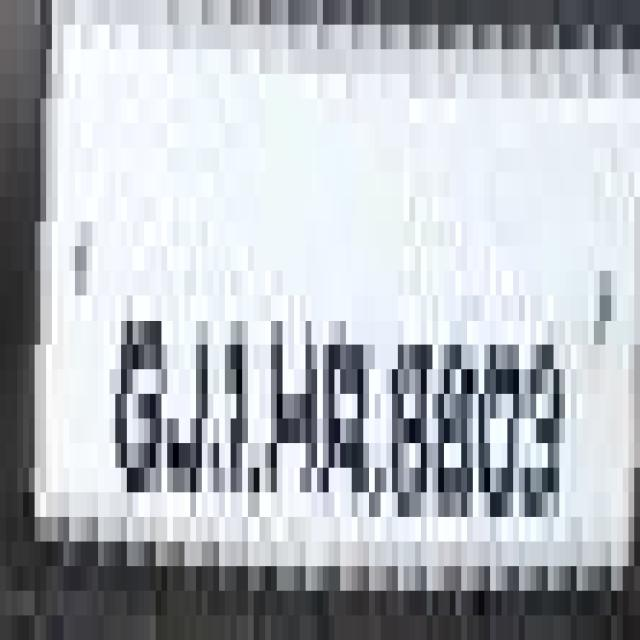license_plate: (23, 0, 640, 615)
